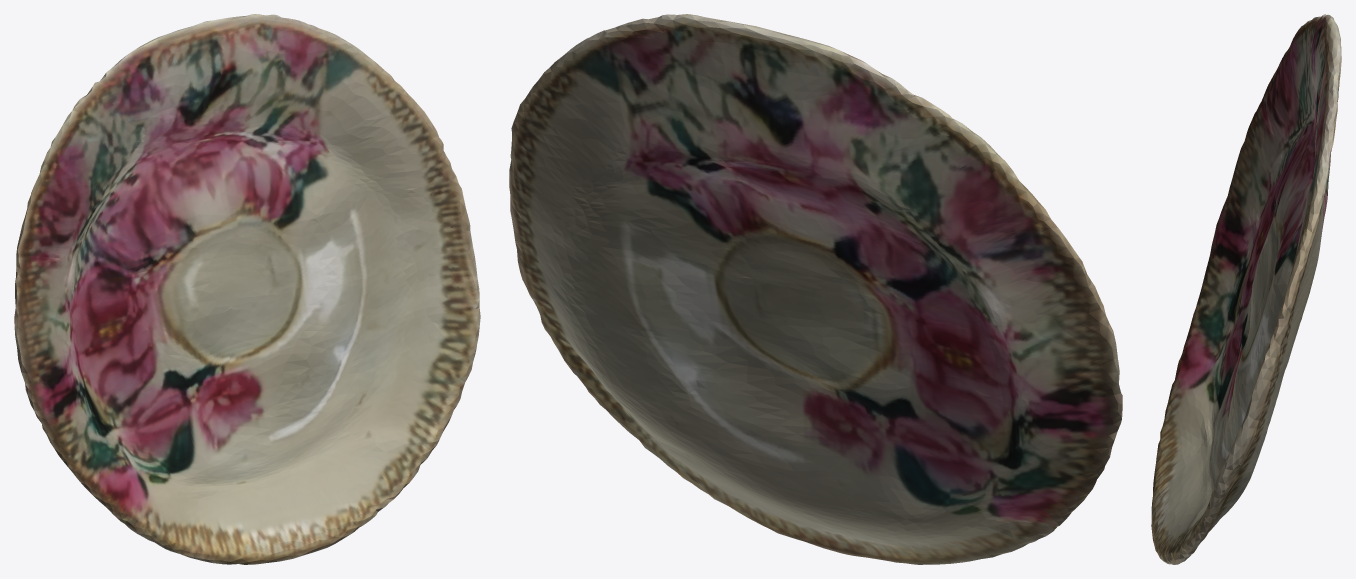
Rendered from mesh_scaled.obj.
3 renders of one model, left to right at view 1: azimuth 30°, elevation 25°; view 2: azimuth 150°, elevation 25°; view 3: azimuth 270°, elevation 25°, orthographic. The views are drawn at different scales.
Visible parts, largest first — view 1: mesh_scaled; view 2: mesh_scaled; view 3: mesh_scaled.
Boxes of the visible parts, x1,y1,x2,y2 form: mesh_scaled: [14, 14, 480, 564]; mesh_scaled: [509, 14, 1122, 564]; mesh_scaled: [1151, 14, 1341, 564].
Size of the model in its own units: 0.1338 by 0.1311 by 0.0461.
Materials: 1 (1 with a texture image).
